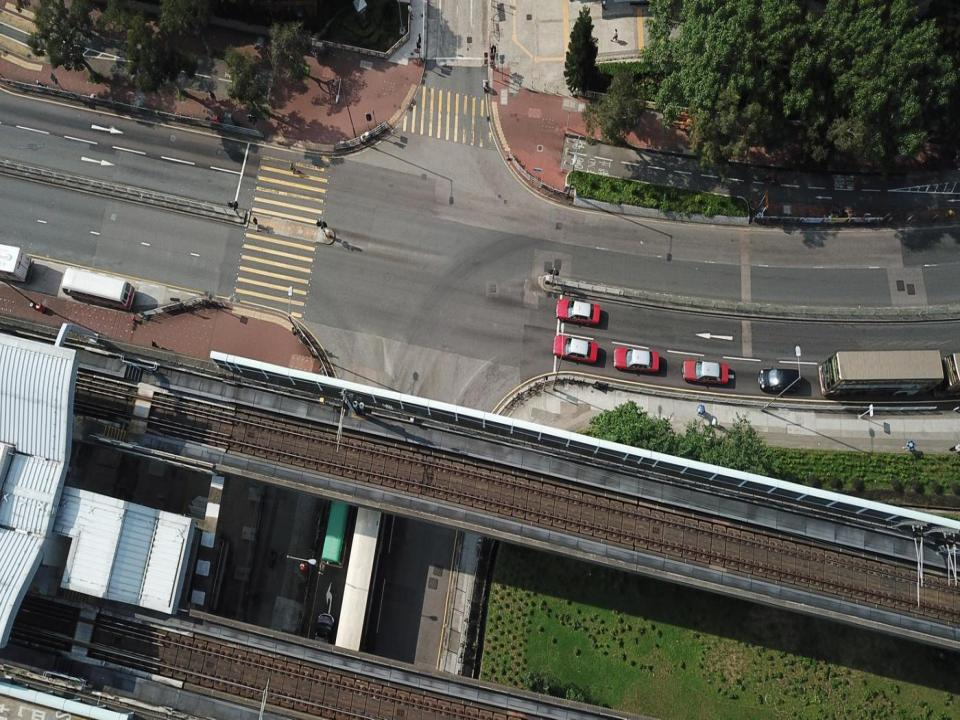bus: (818, 349, 944, 397), (61, 266, 135, 310), (321, 479, 356, 569)
car: (613, 345, 660, 374), (682, 357, 728, 386), (553, 335, 598, 364), (555, 298, 600, 326), (758, 365, 800, 393), (312, 612, 334, 660)
truck: (0, 242, 34, 284)
